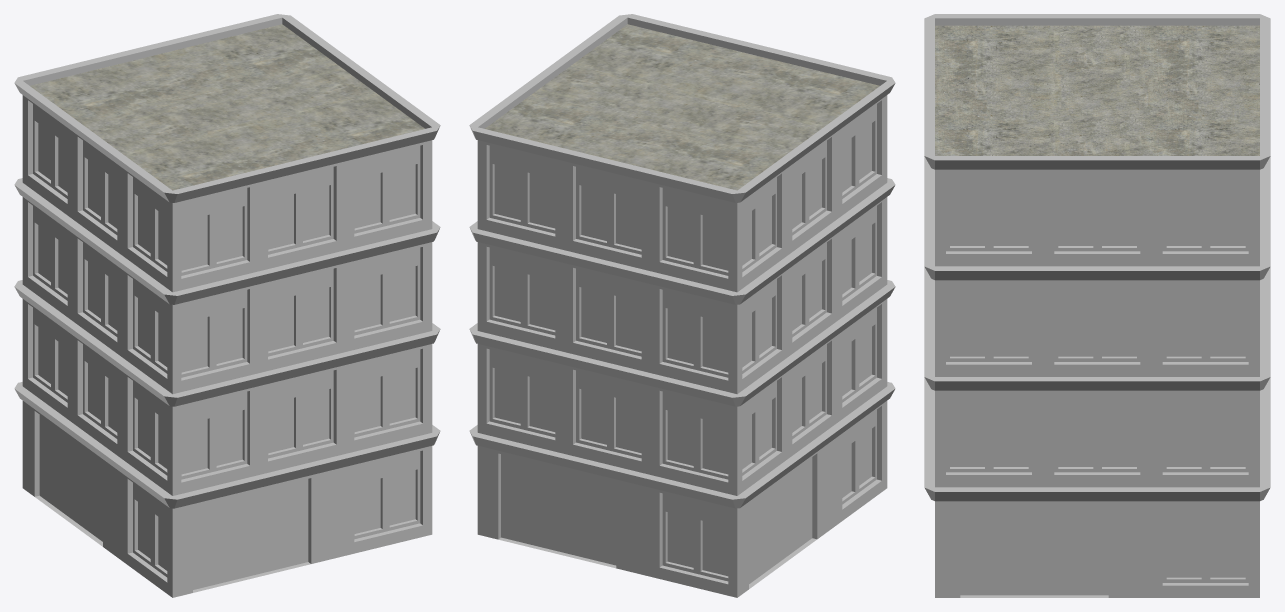
Rendered from DT_Building_Type_06_06.fbx.
The picture shows the model from 3 angles, left to right: view 1: azimuth 30°, elevation 25°; view 2: azimuth 150°, elevation 25°; view 3: azimuth 270°, elevation 25°; orthographic projection. The views are drawn at different scales.
Visible parts, largest first — view 1: DT_Building_Type_06_06; view 2: DT_Building_Type_06_06; view 3: DT_Building_Type_06_06.
Part boxes in pixels (x1=…): DT_Building_Type_06_06: x1=14, y1=14, x2=440, y2=597; DT_Building_Type_06_06: x1=469, y1=14, x2=895, y2=597; DT_Building_Type_06_06: x1=924, y1=14, x2=1270, y2=597.
Bounding box in the file's own units: 818 × 1152 × 818.
